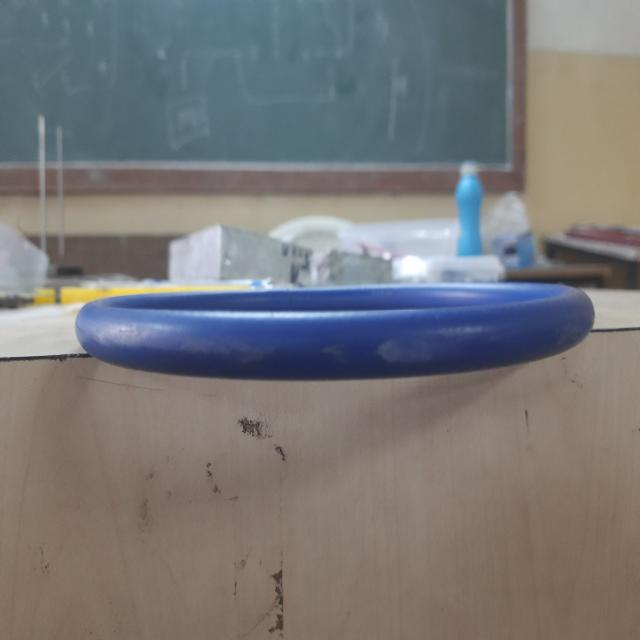daire: (83, 291, 590, 381)
